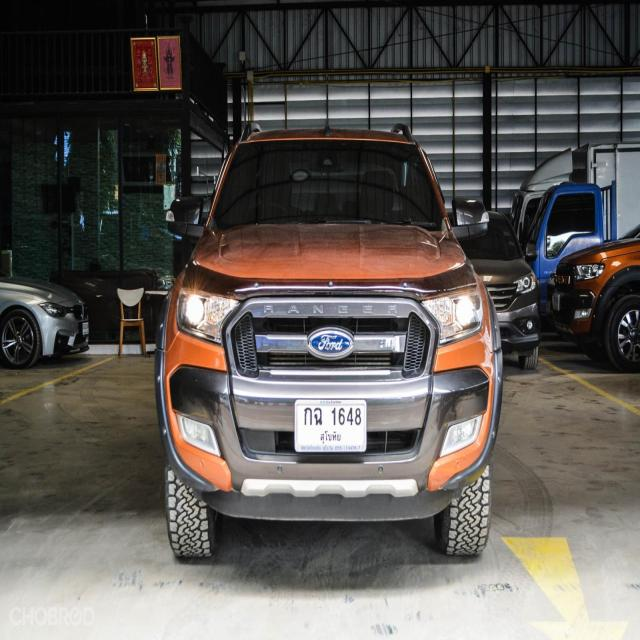license_plate: (295, 397, 368, 454)
